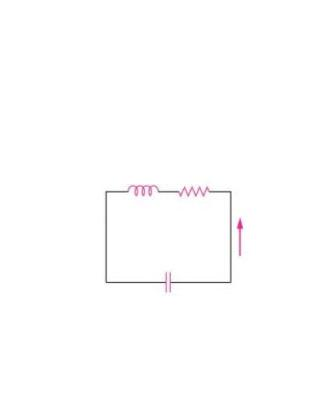resistor: (175, 178, 225, 204)
